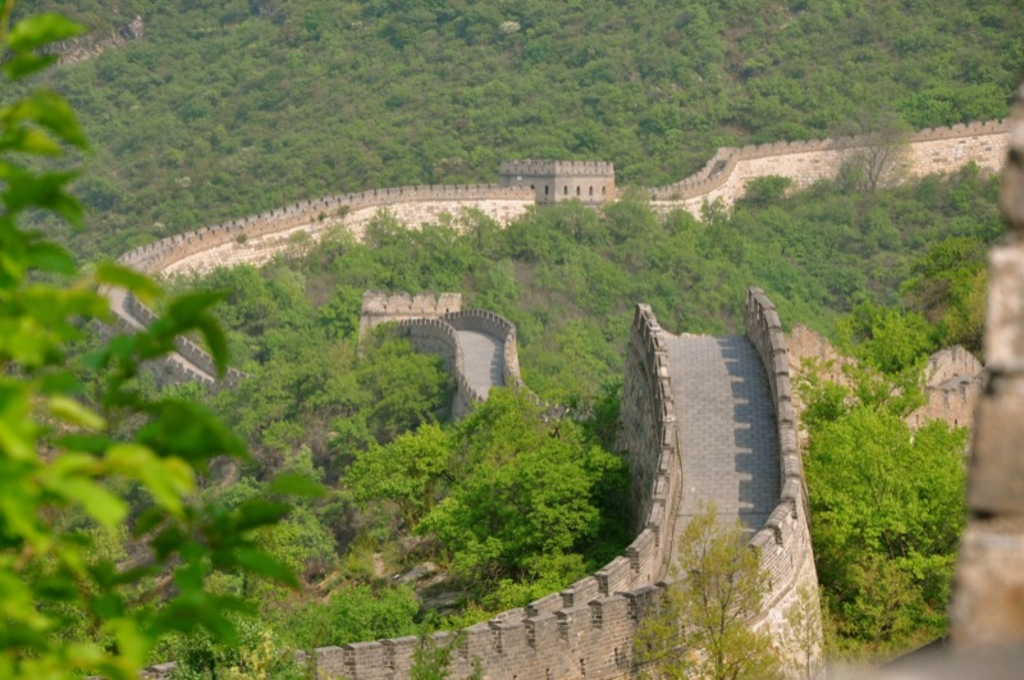Tree: (0, 0, 1022, 295), (0, 0, 331, 678), (194, 257, 458, 678), (568, 169, 1022, 358), (801, 350, 975, 641), (441, 395, 609, 630)
